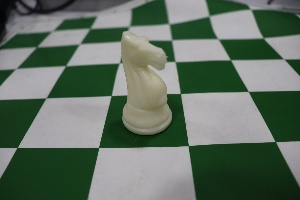white_horse: (109, 19, 178, 145)
